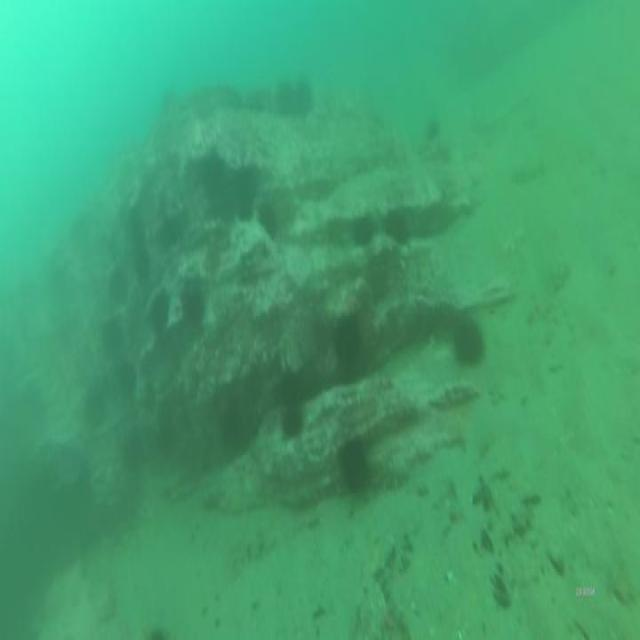echinus: (334, 434, 372, 498), (451, 314, 487, 374), (330, 312, 364, 368), (257, 200, 285, 247), (180, 286, 208, 332), (147, 290, 175, 336), (282, 401, 306, 441), (108, 268, 132, 306)
